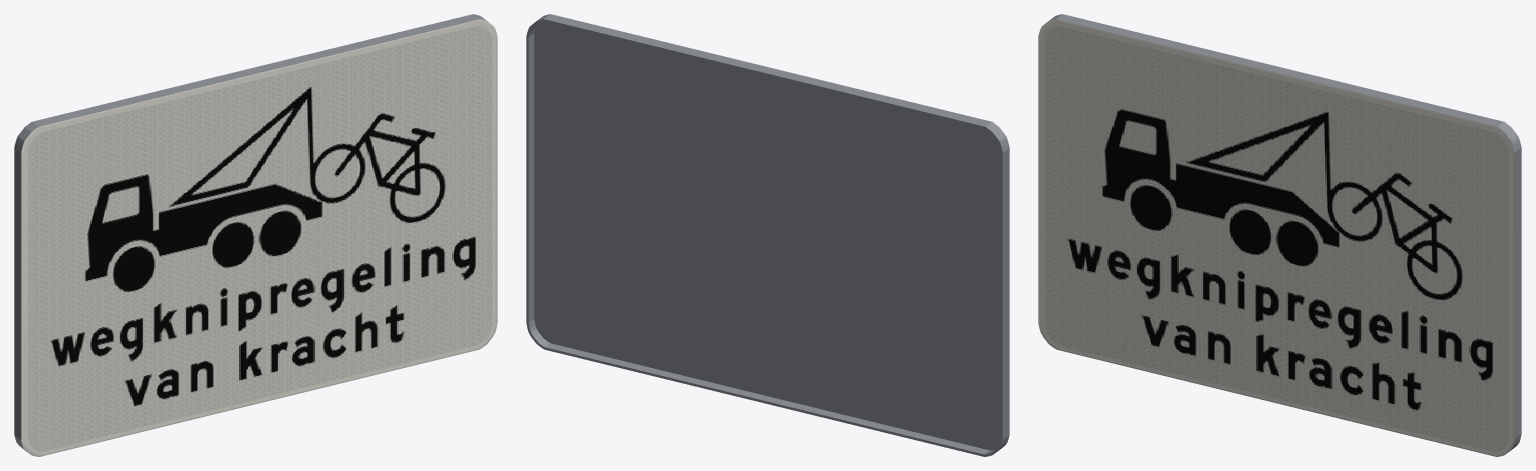
3 renders of one model, left to right at view 1: azimuth 30°, elevation 25°; view 2: azimuth 150°, elevation 25°; view 3: azimuth 330°, elevation 25°, orthographic.
Parts seen in each view (by area): view 1: cat_644b9f662557113d; view 2: cat_644b9f662557113d; view 3: cat_644b9f662557113d.
Part boxes in pixels (x1=…): cat_644b9f662557113d: x1=14, y1=14, x2=497, y2=456; cat_644b9f662557113d: x1=526, y1=14, x2=1009, y2=456; cat_644b9f662557113d: x1=1038, y1=14, x2=1521, y2=456.
Size of the model in its own units: 0.6 by 0.015 by 0.3976.
2 materials, 1 textured.
